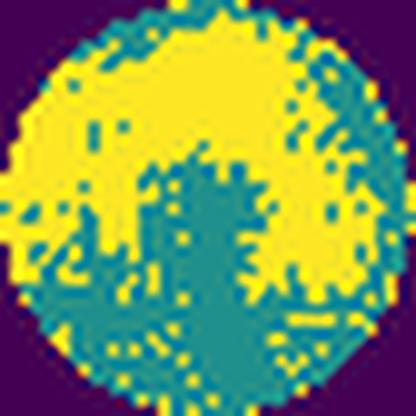Donut: (0, 0, 391, 310)
